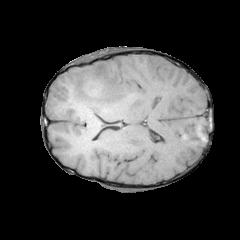glioma: (70, 62, 134, 115)
